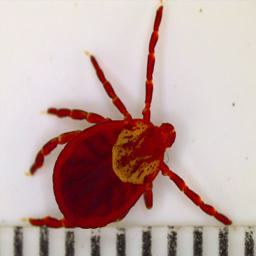Dermacentor variabilis: (31, 4, 238, 227)
